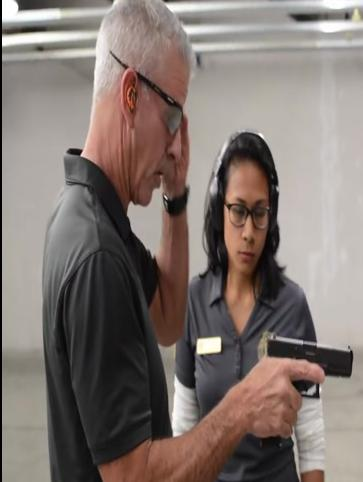pistol: (258, 329, 354, 448)
